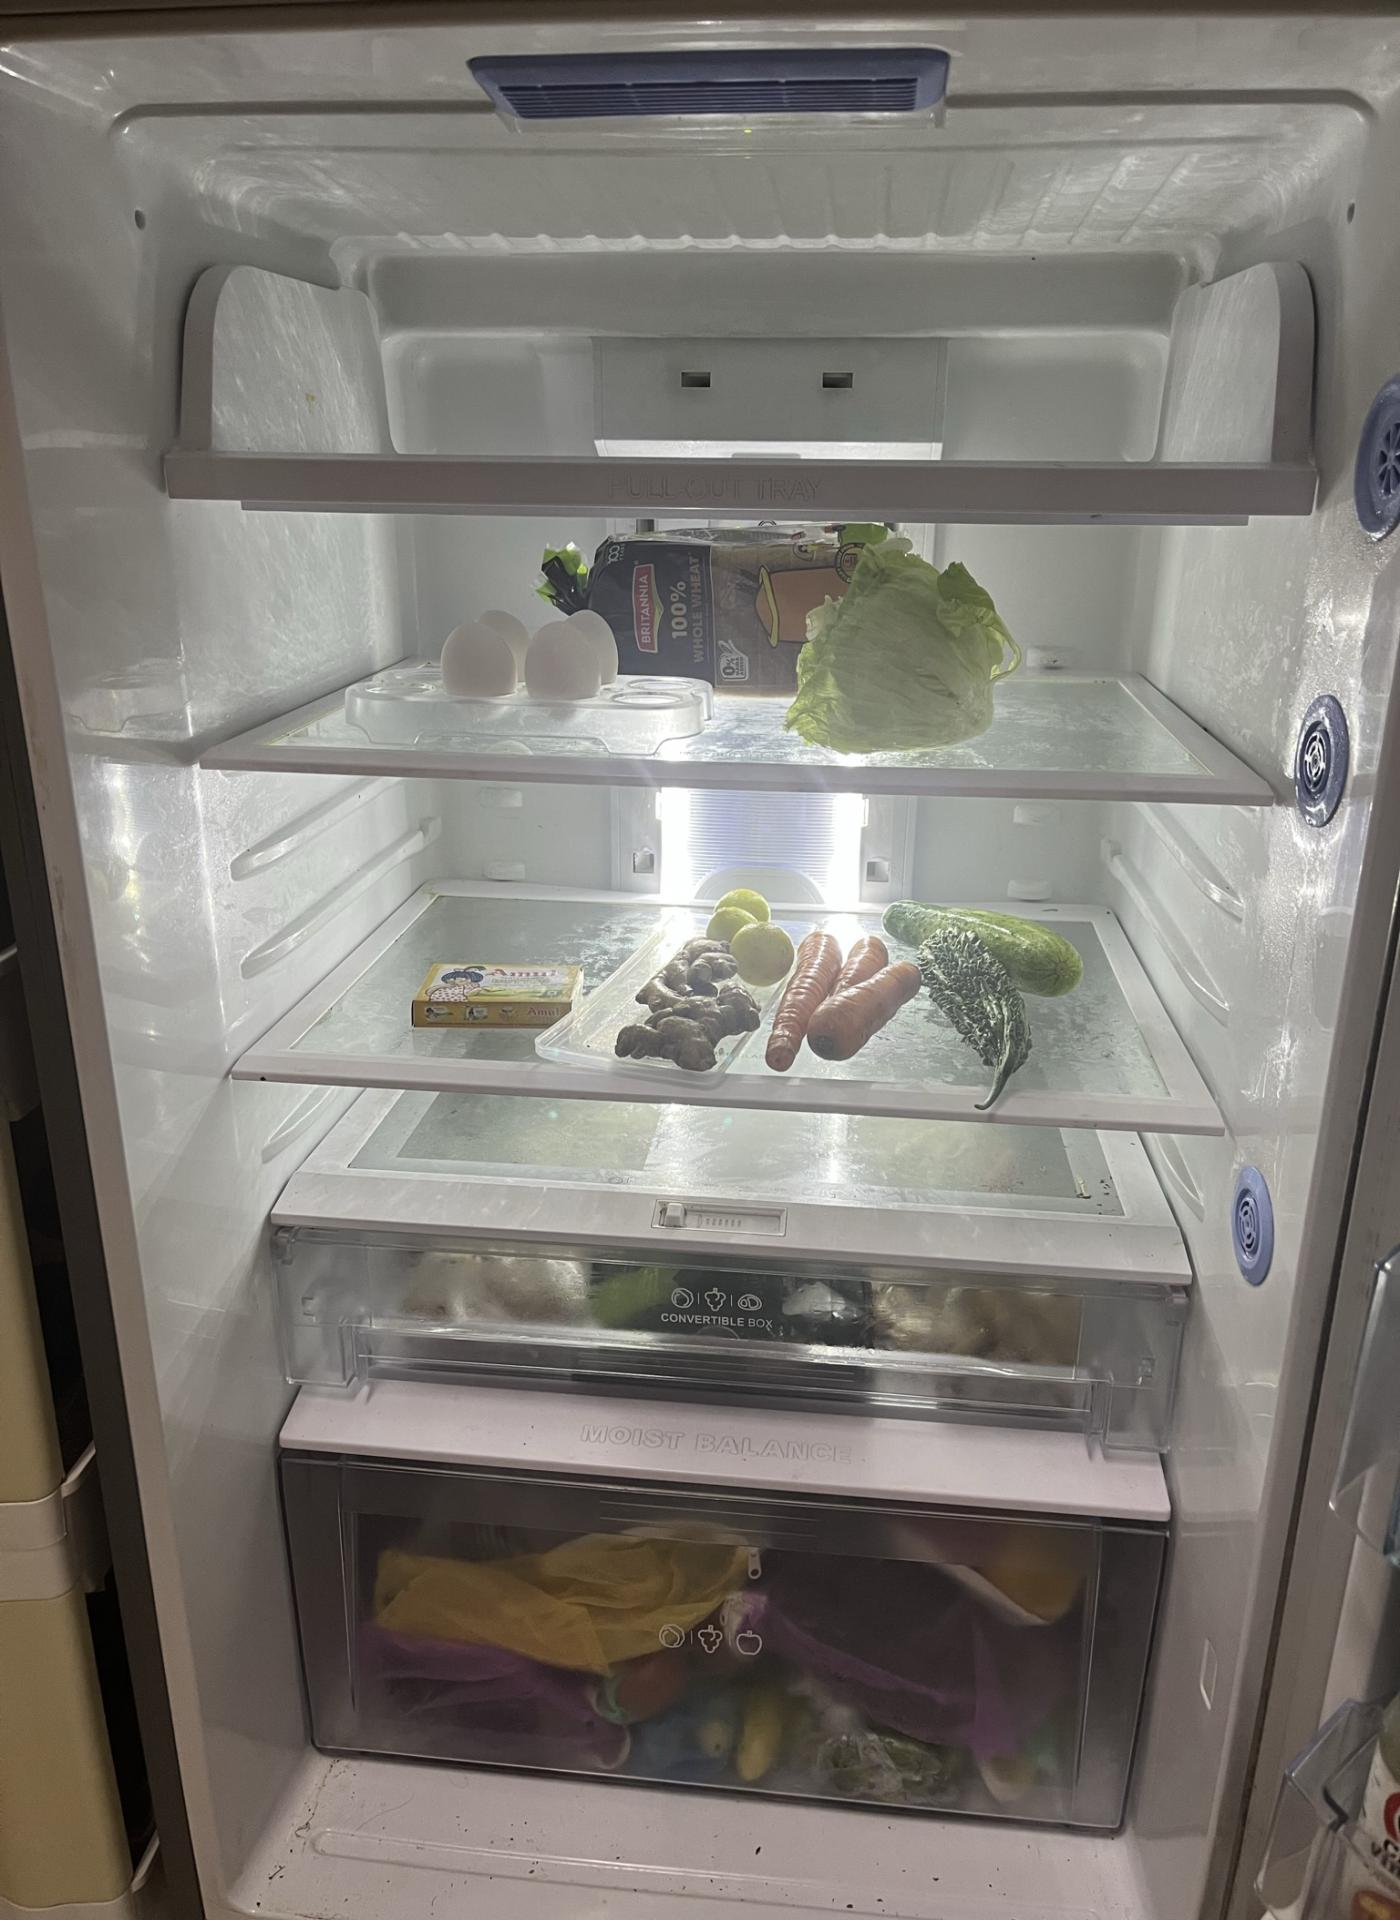bitter gourd: (918, 926, 1032, 1112)
bread: (541, 534, 875, 699)
butter: (412, 961, 581, 1027)
cabbage: (795, 543, 1017, 754)
carrots: (765, 933, 923, 1072)
cucumber: (883, 902, 1085, 999)
egg: (440, 610, 620, 719)
ginger: (617, 939, 760, 1069)
lemon: (704, 888, 792, 985)
